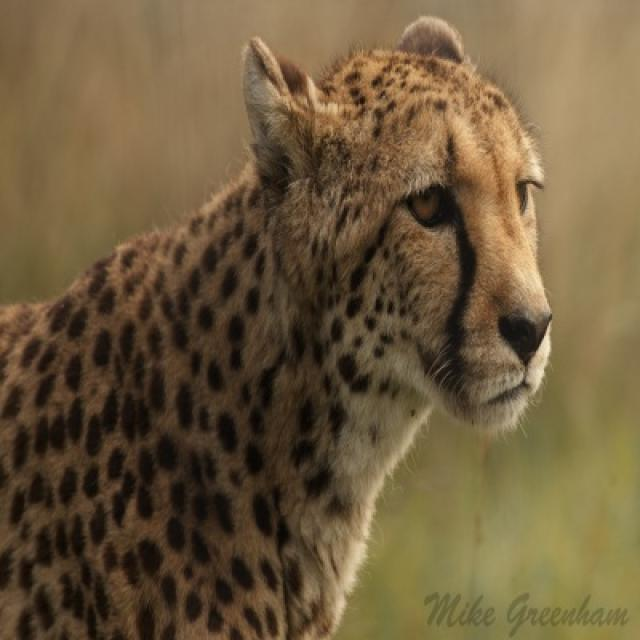Cheetah: (0, 18, 550, 638)
